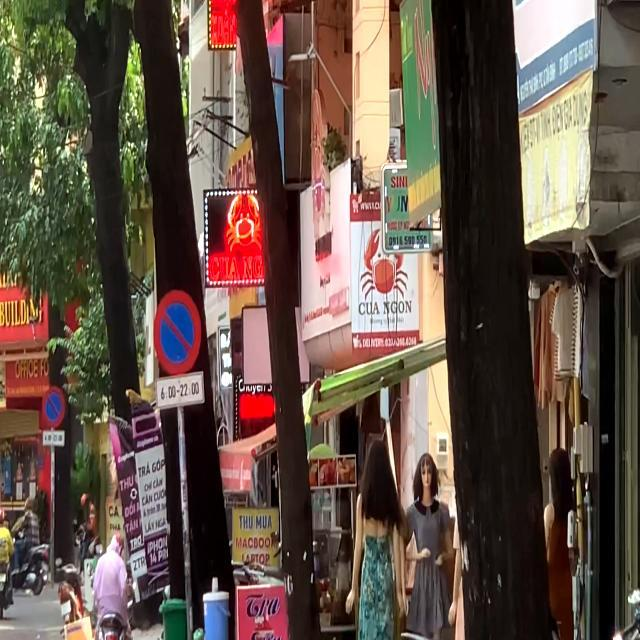P-131a: (152, 288, 198, 374)
